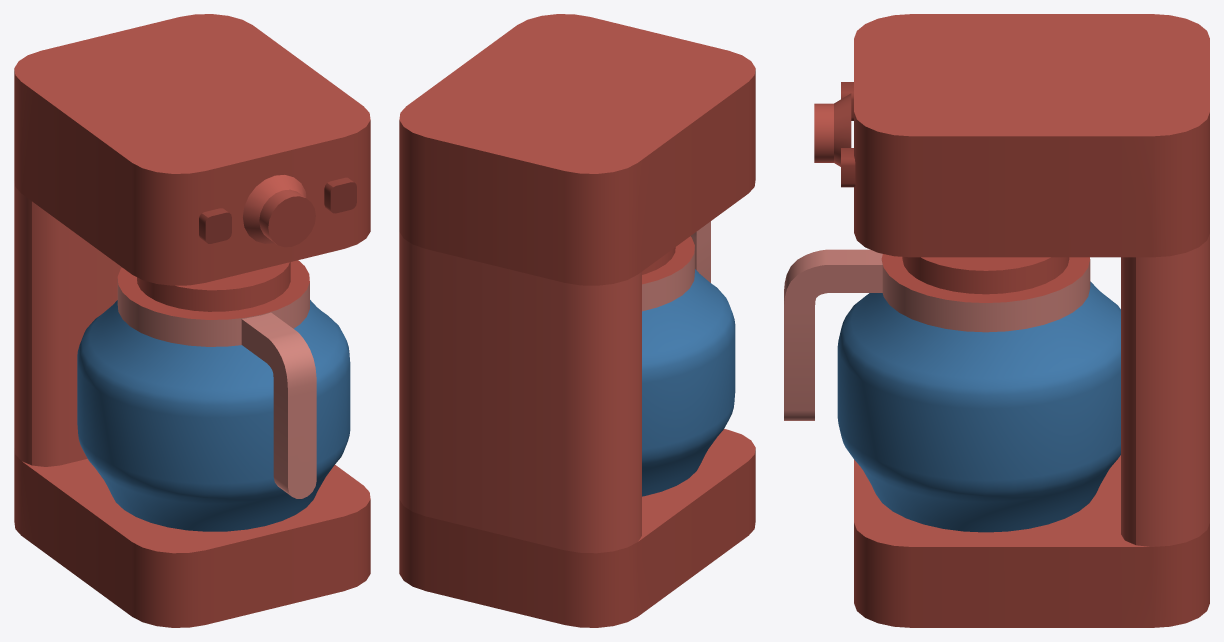
The model's file is Coffee Pot.fbx.
3 renders of one model, left to right at view 1: azimuth 30°, elevation 25°; view 2: azimuth 150°, elevation 25°; view 3: azimuth 270°, elevation 25°, orthographic. The views are drawn at different scales.
Parts seen in each view (by area): view 1: Coffe pot.001, Coffe pot.005, Coffe pot.002, Coffe pot, Coffe pot.003, Coffe pot.004; view 2: Coffe pot.001, Coffe pot.005, Coffe pot.002; view 3: Coffe pot.001, Coffe pot.005, Coffe pot.002, Coffe pot.
Boxes of the visible parts, x1,y1,x2,y2 form: Coffe pot.001: (14,14,370,627); Coffe pot.005: (77,300,350,531); Coffe pot.002: (117,260,316,498); Coffe pot: (243,175,315,247); Coffe pot.003: (324,177,356,213); Coffe pot.004: (199,208,231,243); Coffe pot.001: (399,14,755,627); Coffe pot.005: (642,269,735,496); Coffe pot.002: (642,221,710,311); Coffe pot.001: (854,14,1209,627); Coffe pot.005: (837,281,1120,532); Coffe pot.002: (784,249,1090,420); Coffe pot: (814,93,851,166).
Bounding box in the file's own units: 0.3897 × 0.7133 × 0.5601.
